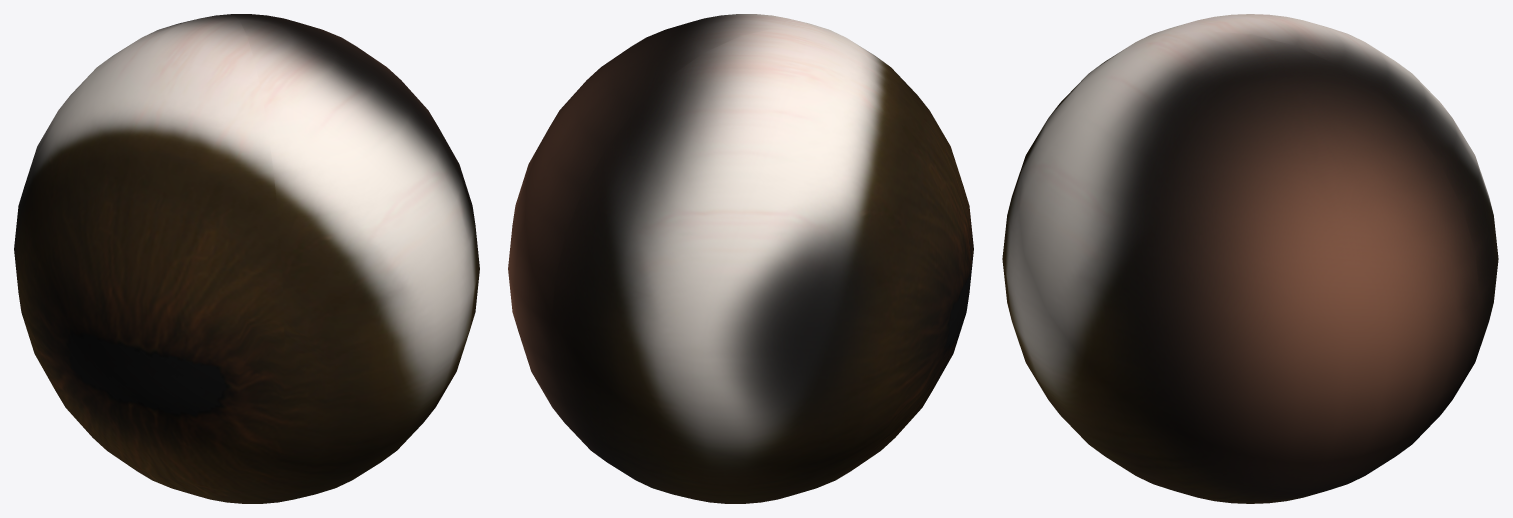
Rendered from Eye R.fbx.
The picture shows the model from 3 angles, left to right: view 1: azimuth 30°, elevation 25°; view 2: azimuth 150°, elevation 25°; view 3: azimuth 270°, elevation 25°; orthographic projection.
Visible parts, largest first — view 1: Eye R; view 2: Eye R; view 3: Eye R.
Boxes of the visible parts, left/top/right/bottom form: Eye R: left=14, top=14, right=479, bottom=503; Eye R: left=508, top=14, right=973, bottom=503; Eye R: left=1002, top=14, right=1498, bottom=503.
Size of the model in its own units: 4.51 by 4.86 by 4.86.
Materials: 1 (1 with a texture image).
